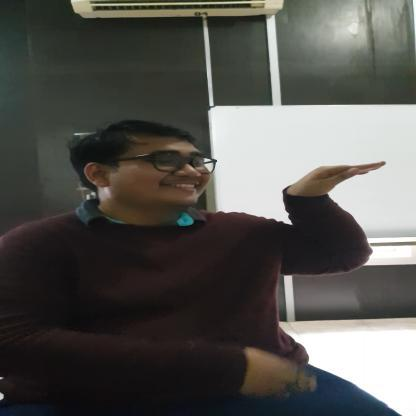Z: (268, 161, 390, 271)
